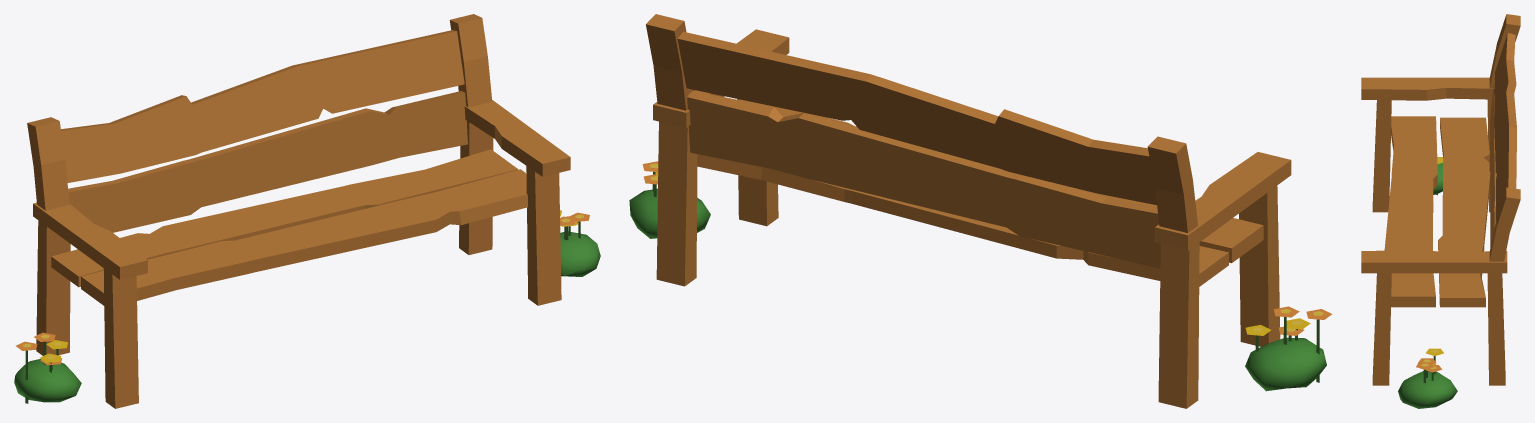
Rendered from sunset_bench.glb.
3 views of the same model, side by side, from view 1: azimuth 30°, elevation 25°; view 2: azimuth 150°, elevation 25°; view 3: azimuth 270°, elevation 25° (orthographic). The views are drawn at different scales.
Parts seen in each view (by area): view 1: decor-sunset_bench; view 2: decor-sunset_bench; view 3: decor-sunset_bench.
Part boxes in pixels (bbox=[...]): decor-sunset_bench: bbox=[14, 14, 600, 408]; decor-sunset_bench: bbox=[629, 14, 1331, 408]; decor-sunset_bench: bbox=[1361, 14, 1520, 408].
Bounding box in the file's own units: 4.25 × 1.56 × 1.2.
